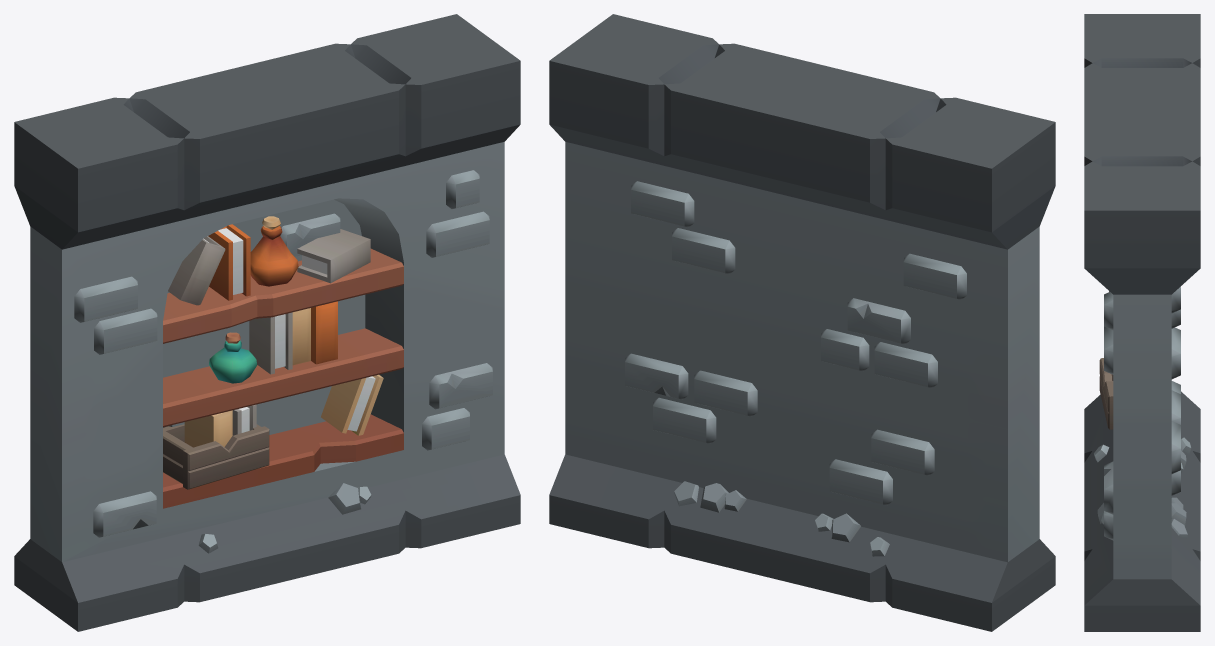
The model's file is wall_inset_shelves_decorateda.glb.
3 views of the same model, side by side, from view 1: azimuth 30°, elevation 25°; view 2: azimuth 150°, elevation 25°; view 3: azimuth 270°, elevation 25° (orthographic). The views are drawn at different scales.
Parts seen in each view (by area): view 1: wall_inset_shelves_decoratedA; view 2: wall_inset_shelves_decoratedA; view 3: wall_inset_shelves_decoratedA.
Part boxes in pixels (x1=…): wall_inset_shelves_decoratedA: x1=14, y1=14, x2=520, y2=631; wall_inset_shelves_decoratedA: x1=549, y1=14, x2=1055, y2=631; wall_inset_shelves_decoratedA: x1=1084, y1=14, x2=1200, y2=631.
Size of the model in its own units: 4 by 4 by 1.
1 material, 1 textured.
